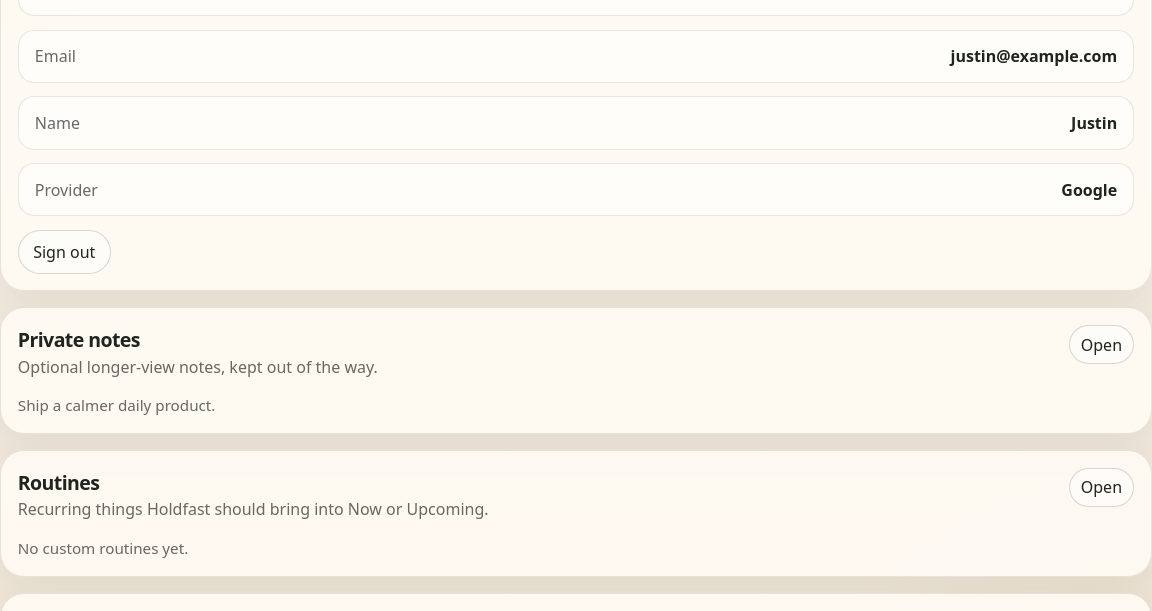
Test case: SettingsView › keeps advanced sections collapsed until opened
The width and height of the screenshot is (1152, 611).
(page scrolled)
Click the button "Open" in the row of "Private notes".
click(1101, 345)  # box [1069,325,1134,364]
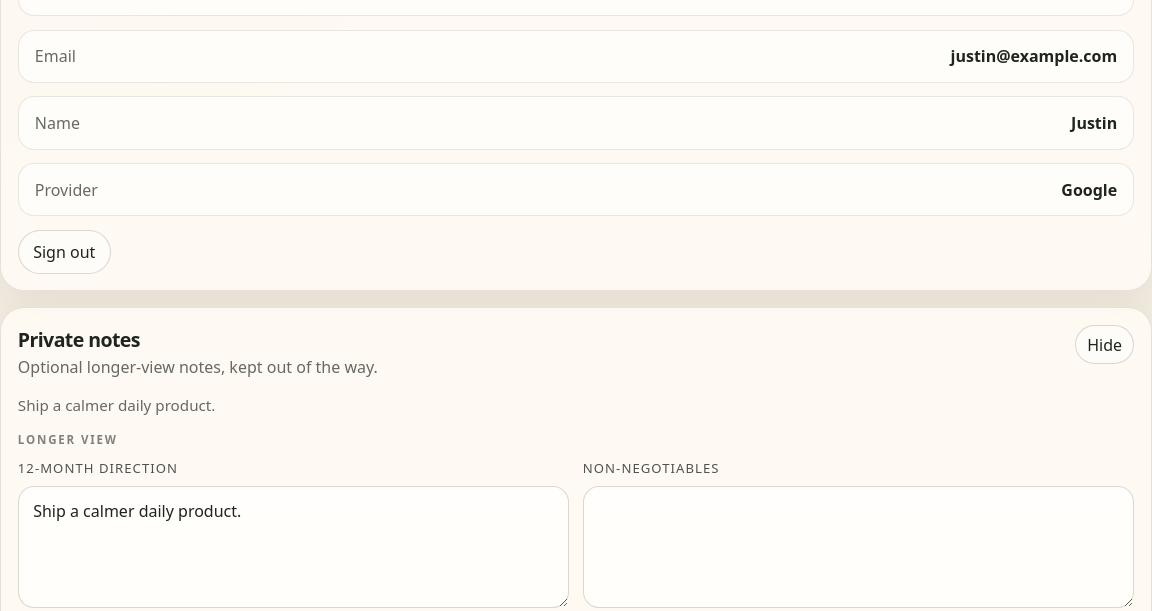
Result: the text box labelled "12-month direction" is shown at [18,486,569,608]
